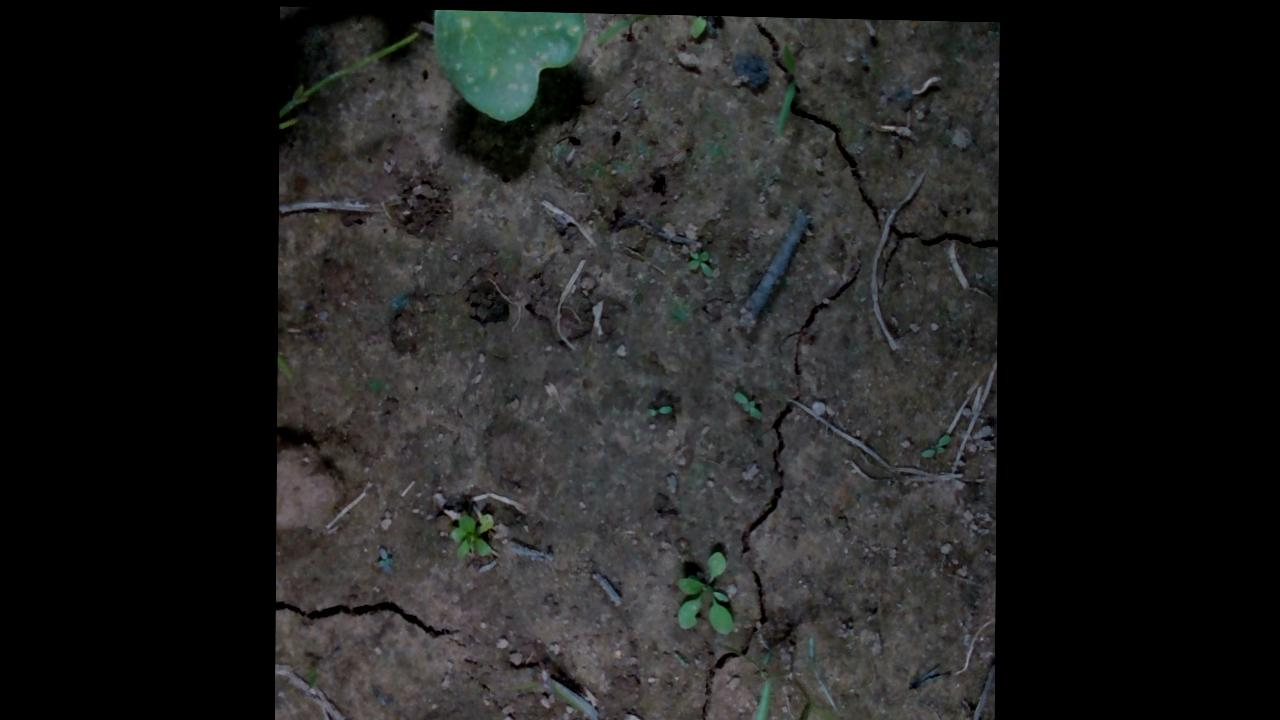weed: (687, 12, 723, 40), (684, 246, 713, 275), (732, 389, 763, 416), (374, 546, 395, 575), (647, 402, 674, 415)
